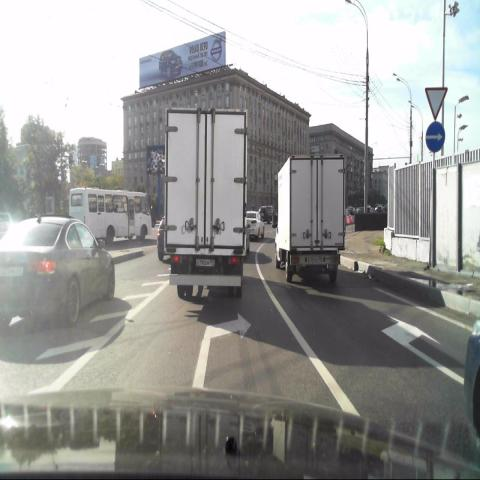2_4: (425, 85, 448, 121)
4_1_2_1: (423, 122, 446, 155)
